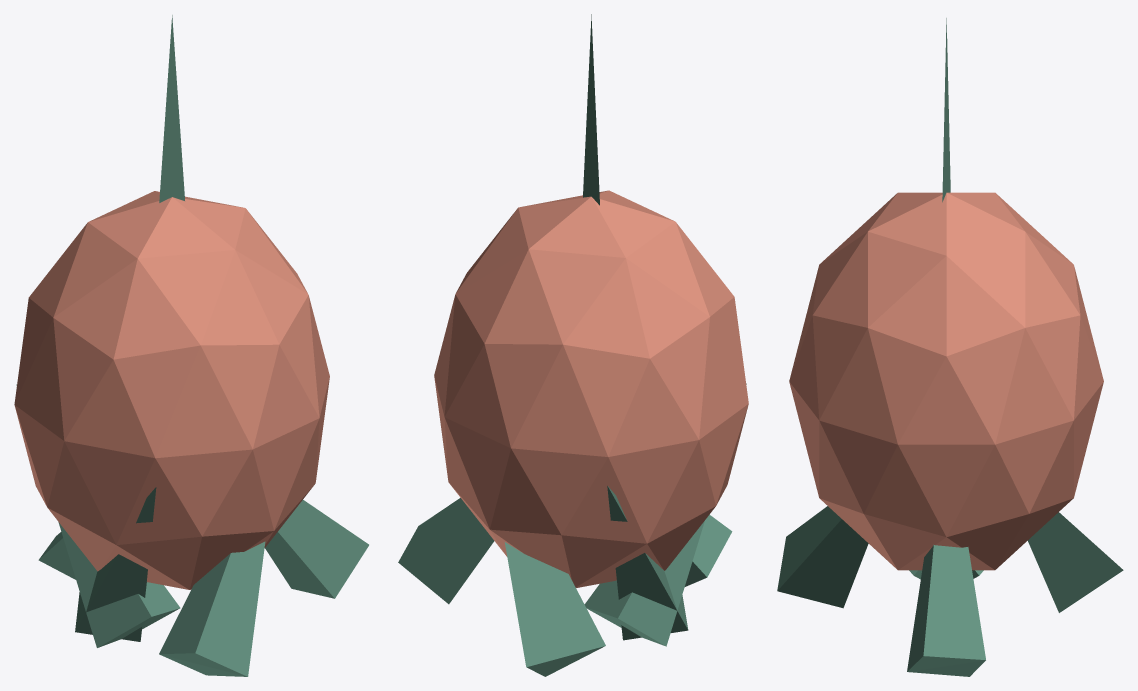
File: Plant_04_LOD1.fbx
3 views of the same model, side by side, from view 1: azimuth 30°, elevation 25°; view 2: azimuth 150°, elevation 25°; view 3: azimuth 270°, elevation 25° (orthographic). The views are drawn at different scales.
Visible parts, largest first — view 1: Plant_04_LOD1; view 2: Plant_04_LOD1; view 3: Plant_04_LOD1.
Boxes of the visible parts, x1,y1,x2,y2 form: Plant_04_LOD1: (14,15,368,676); Plant_04_LOD1: (398,14,748,676); Plant_04_LOD1: (777,18,1123,676).
Size of the model in its own units: 155 by 288 by 150.
